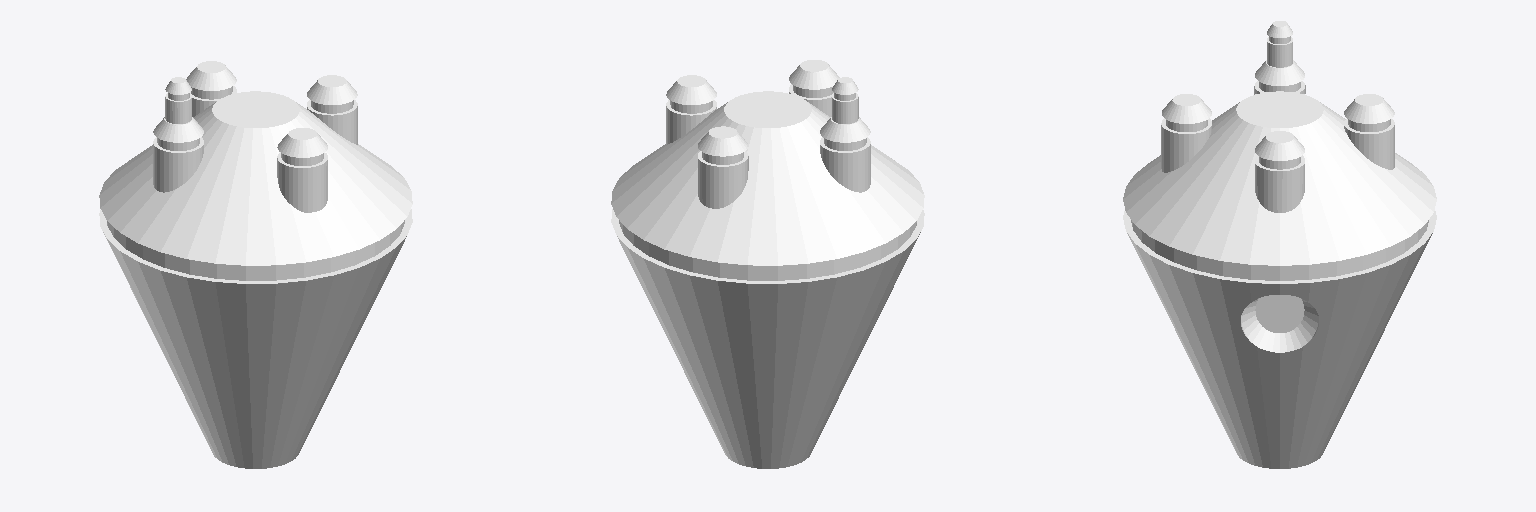
File: Uln_Commerce_Center.obj
The picture shows the model from 3 angles: view 1: azimuth 30°, elevation 25°; view 2: azimuth 150°, elevation 25°; view 3: azimuth 270°, elevation 25°; orthographic projection.
Visible parts, largest first — view 1: MarketSt01_MarketSt01; view 2: MarketSt01_MarketSt01; view 3: MarketSt01_MarketSt01.
Boxes of the visible parts, x1,y1,x2,y2 form: MarketSt01_MarketSt01: [99, 61, 412, 468]; MarketSt01_MarketSt01: [611, 60, 924, 468]; MarketSt01_MarketSt01: [1123, 21, 1436, 468].
Size of the model in its own units: 7.35 by 10.05 by 7.35.